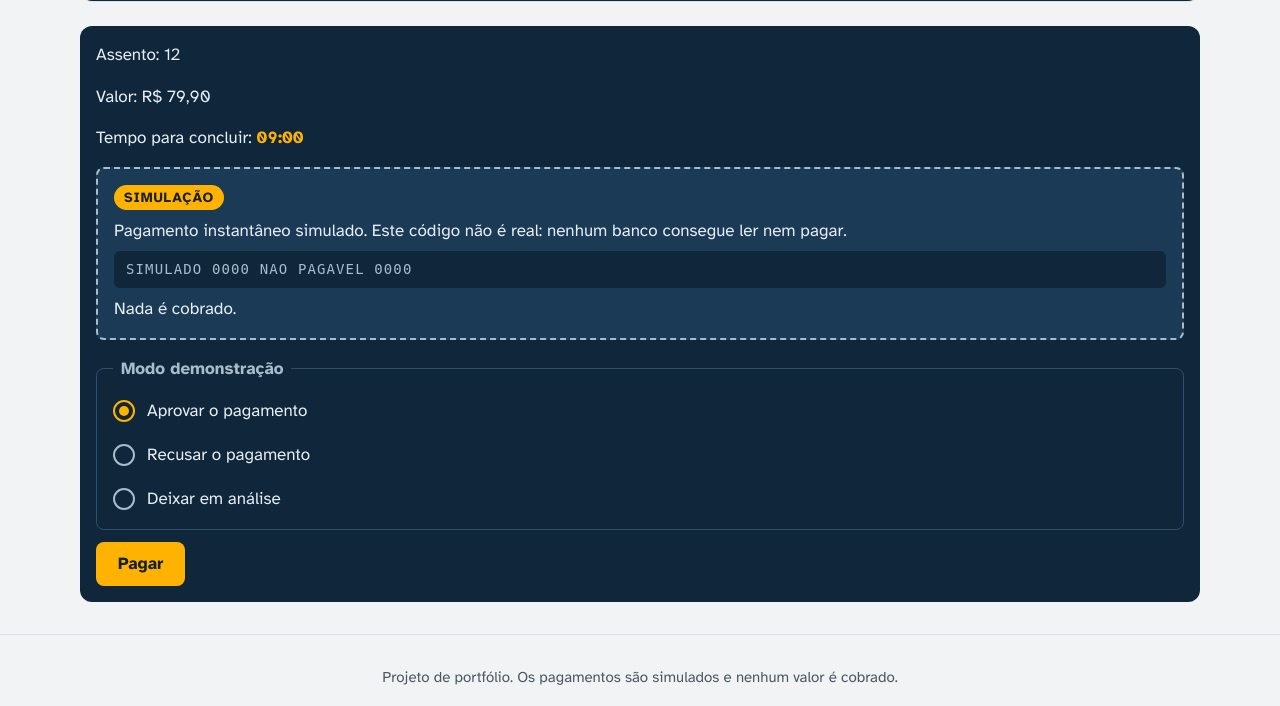
Test: PaymentPage: pagar › erro de regra mostra a mensagem da API e libera o botão
(page scrolled)
Click the button "Pagar" at (141, 564), box [96, 542, 186, 586]
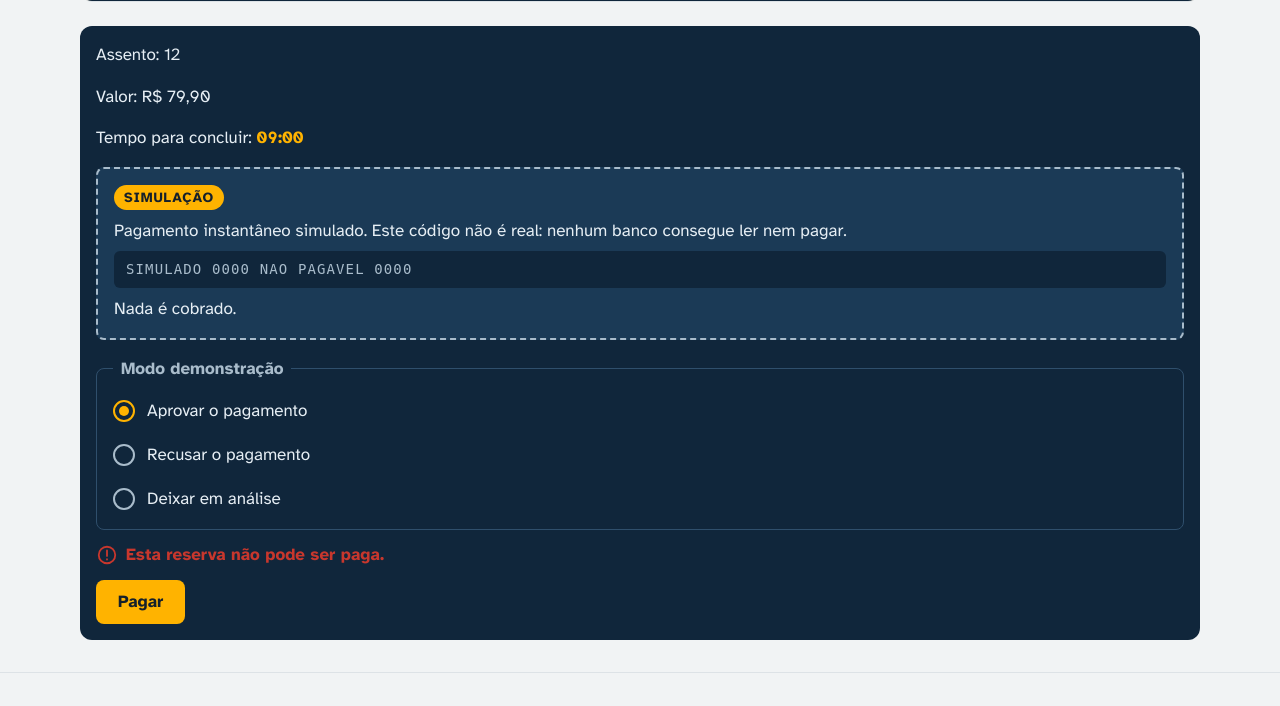
Expected: the button "Pagar" is enabled, [96, 580, 186, 624]
Expected: the message reads "Esta reserva não pode ser paga.", [126, 544, 384, 565]
